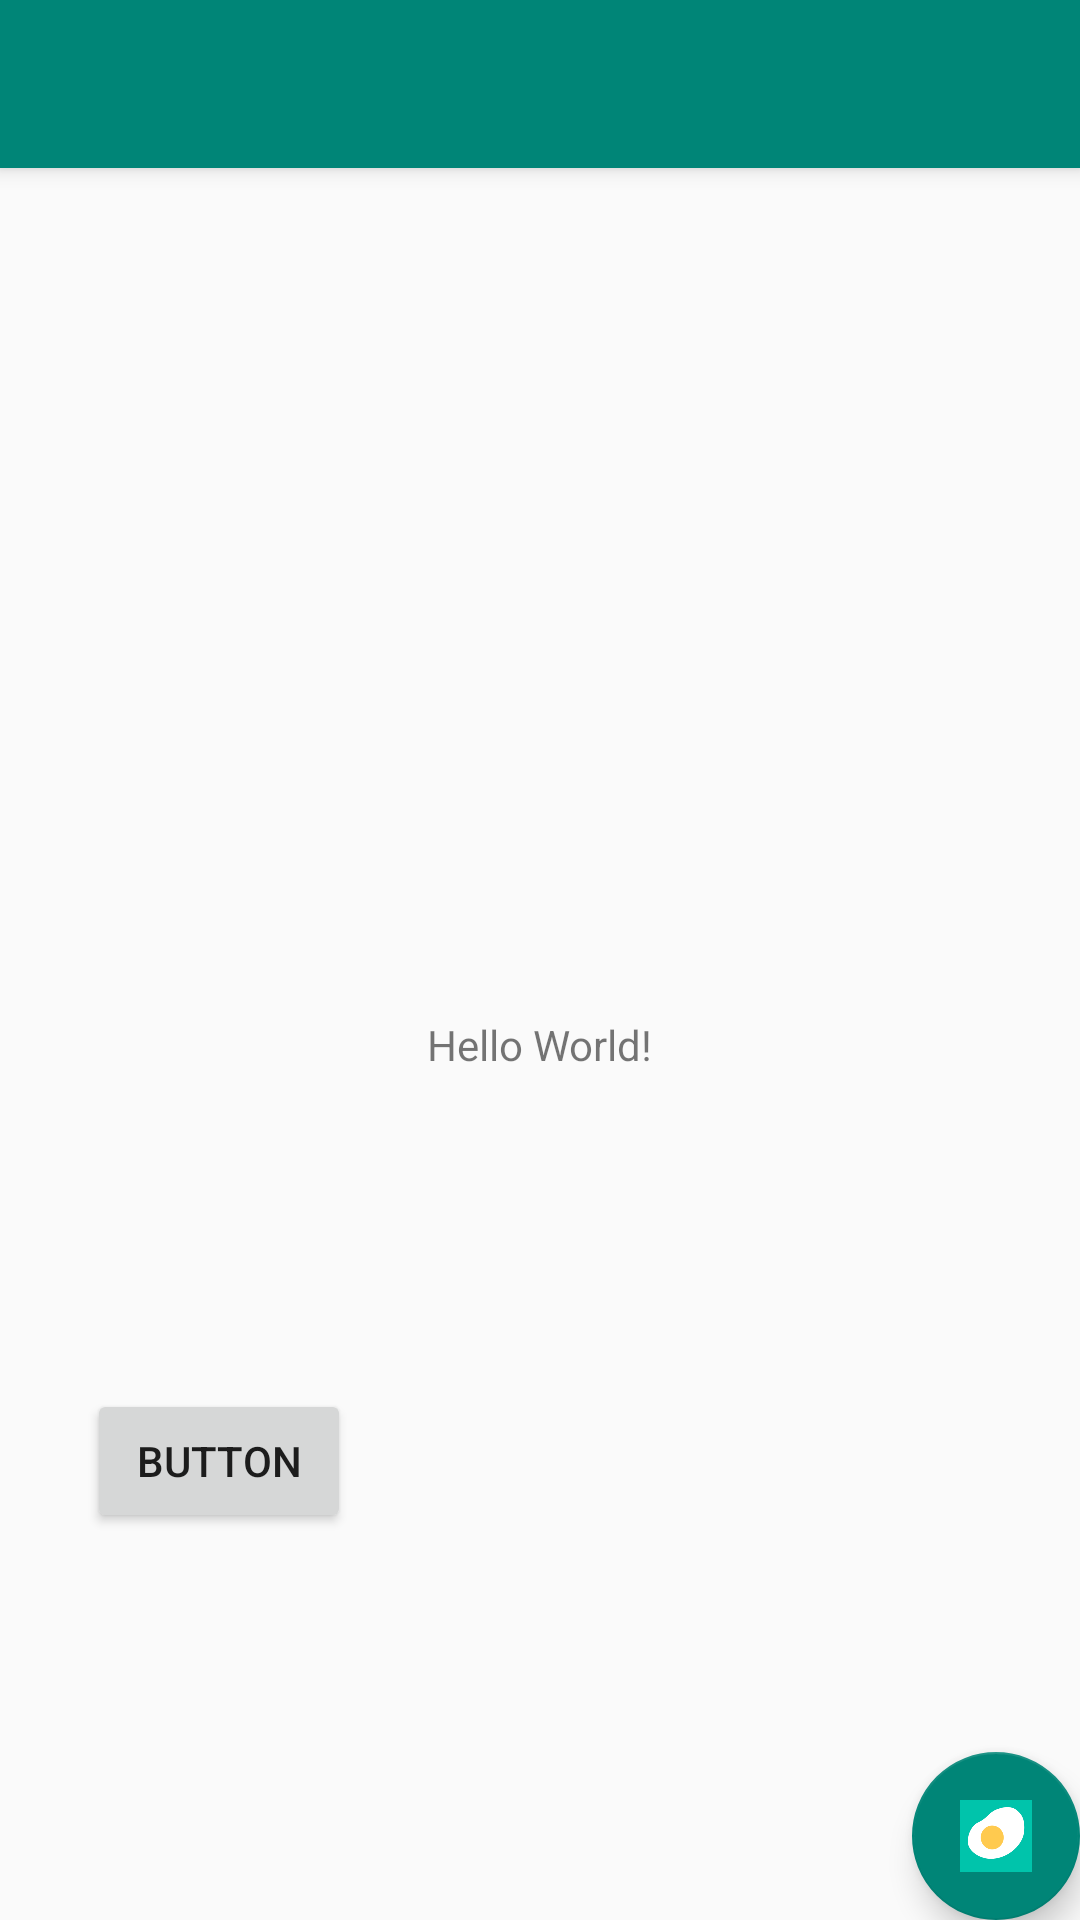

Where to tap for icons on this 1080w x 1920h app screen, as [x,y]:
tamagoicon: [996,1836]
